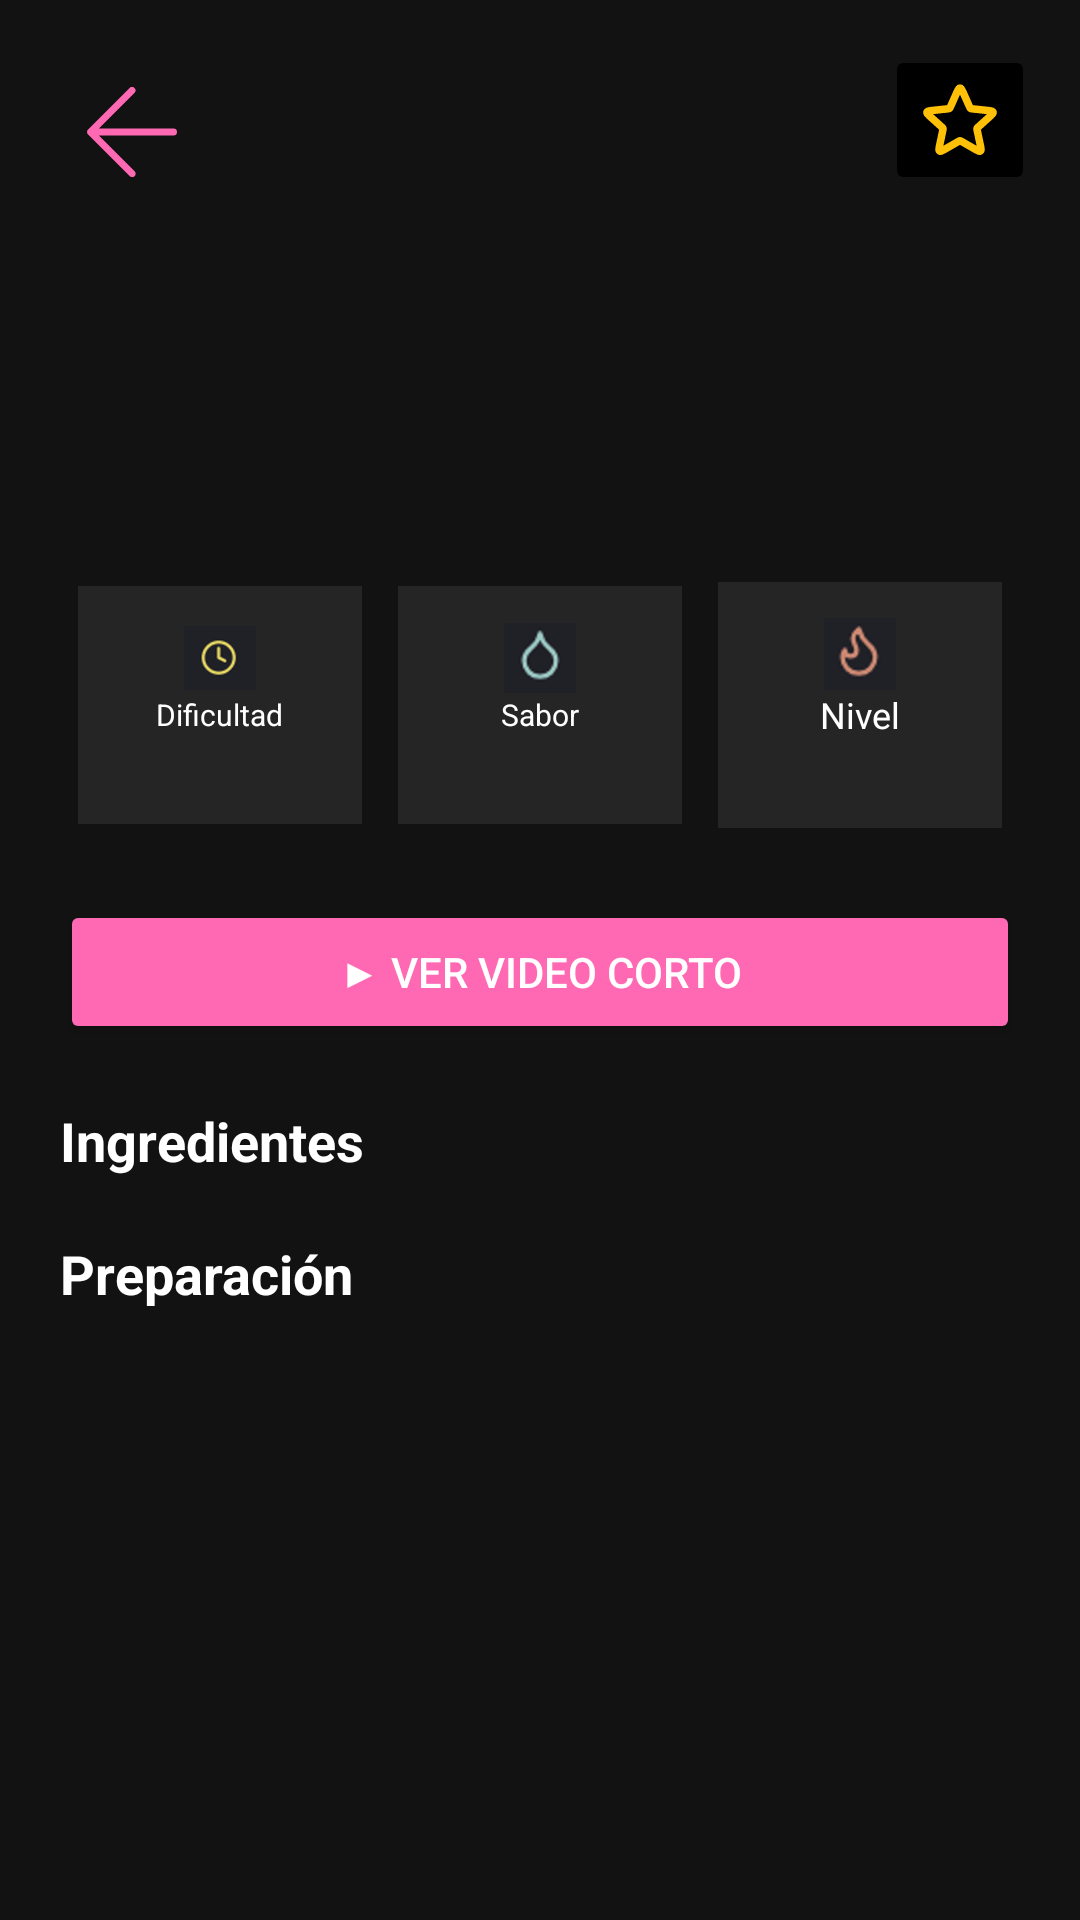

Screen size 1080px x 1920px. Icon name, then its box in pixels as detection(x1, y1, x2, y2):
Boton para regresar a la pantalla anterior: detection(87, 87, 177, 177)
favorito: detection(897, 63, 1023, 177)
reloj: detection(201, 640, 236, 675)
